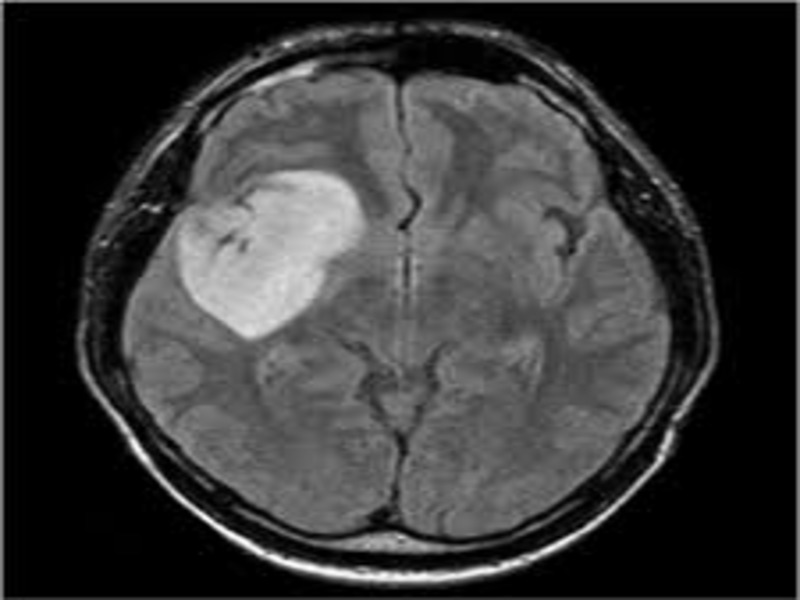tumor: (169, 164, 373, 352)
